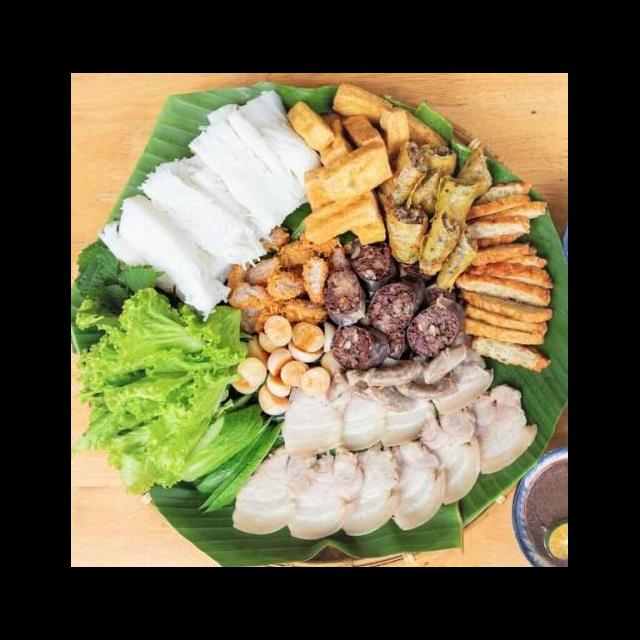bun: (313, 96, 559, 326)
bun dau: (75, 104, 568, 567)
cha com: (264, 451, 467, 554), (299, 219, 425, 345)
cha gio: (341, 369, 509, 496)
dau hu: (394, 282, 562, 417)
doi sun: (268, 318, 406, 476)
thit heo: (92, 227, 303, 543)
